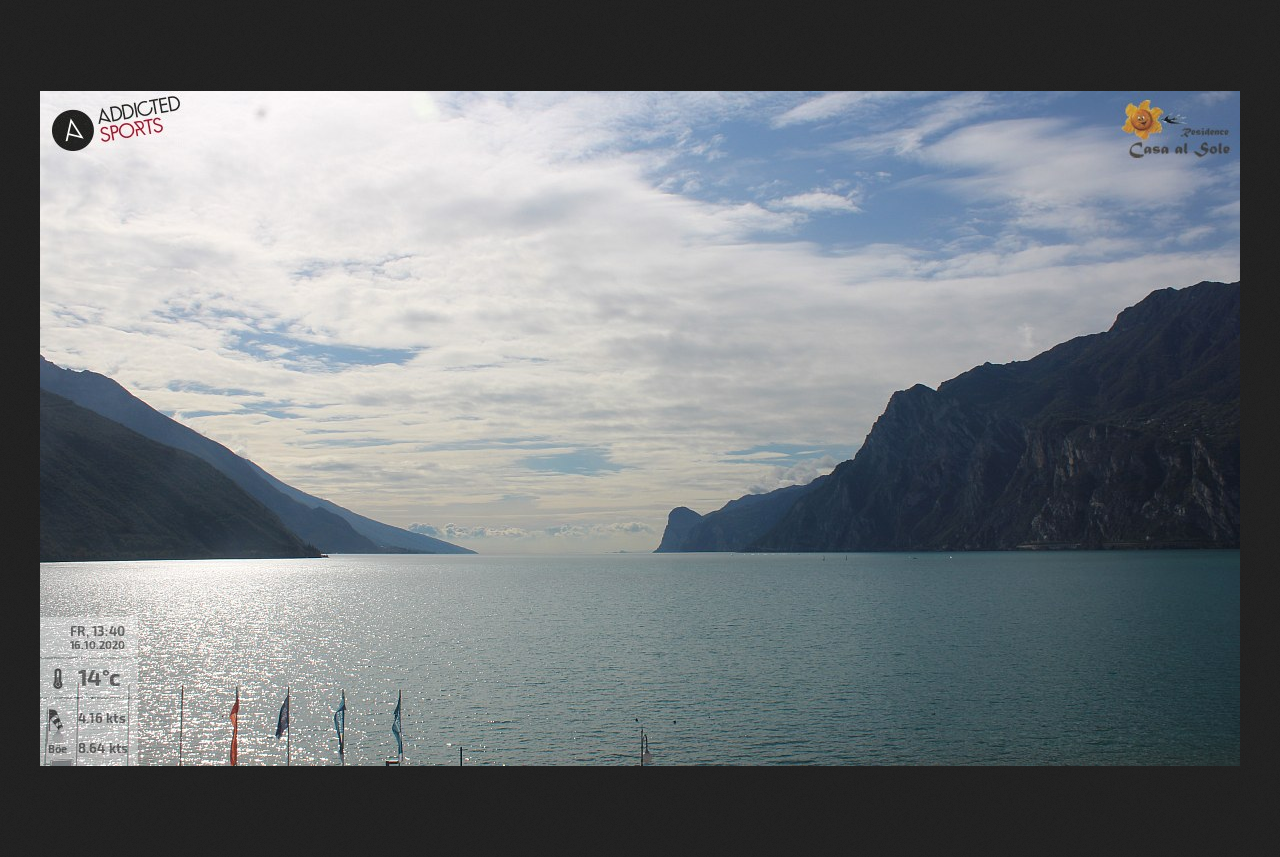maybe: (328, 687, 355, 761), (388, 686, 410, 761), (272, 683, 297, 743)
